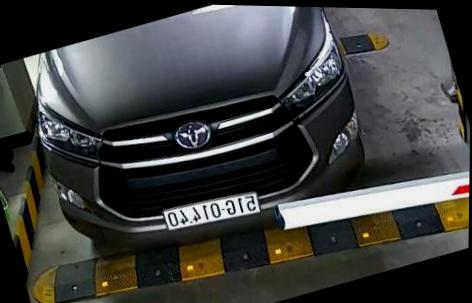License_Plate: (162, 185, 264, 231)
